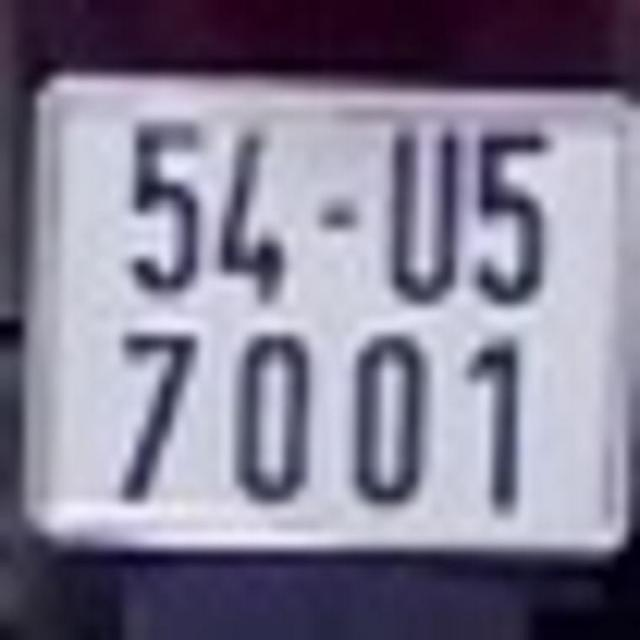0: (242, 328, 312, 504), (356, 327, 423, 504)
1: (467, 332, 535, 518)
4: (224, 123, 284, 287)
5: (477, 121, 555, 306), (126, 114, 205, 290)
7: (117, 322, 198, 498)
U: (392, 115, 459, 311)
